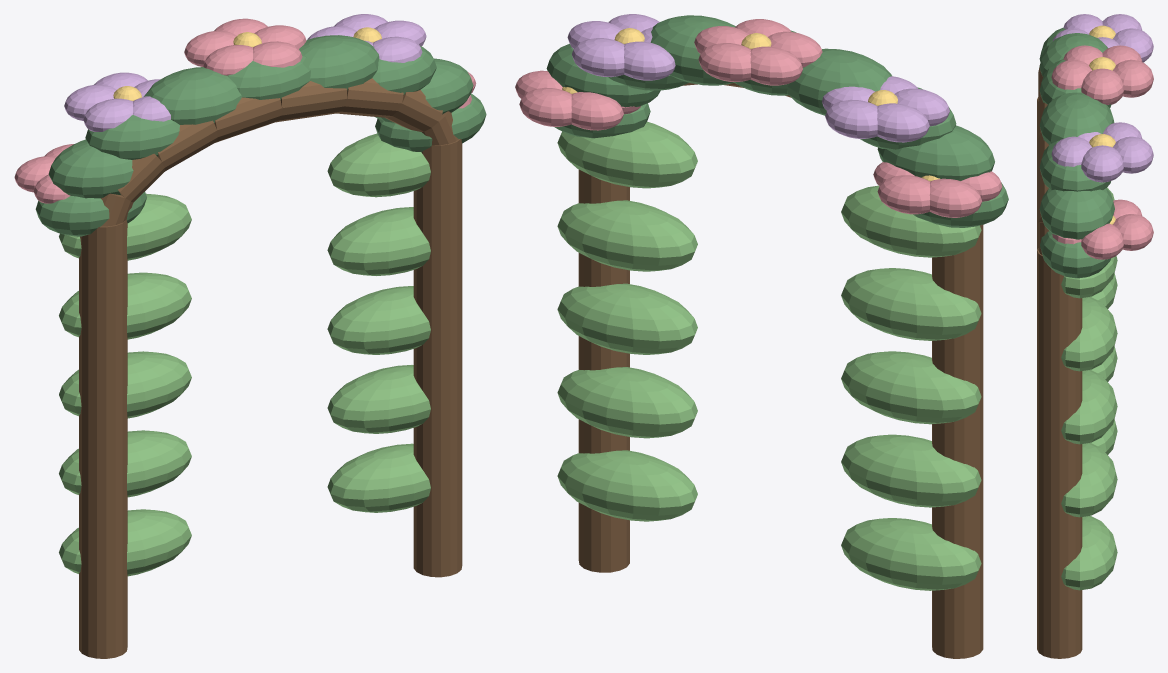
The model's file is FlowerArch.fbx.
The picture shows the model from 3 angles, left to right: view 1: azimuth 30°, elevation 25°; view 2: azimuth 150°, elevation 25°; view 3: azimuth 270°, elevation 25°; orthographic projection. The views are drawn at different scales.
Parts seen in each view (by area): view 1: Vine pillar, Vine pillar.001, Climbing leaf.007, Climbing leaf.008, Climbing leaf.005, Climbing leaf.006, Climbing leaf.009, Climbing leaf.003, Climbing leaf.002, Climbing leaf.001, Climbing leaf, Arch leaf.003 (+27 smaller); view 2: Vine pillar, Vine pillar.001, Climbing leaf.005, Climbing leaf.007, Climbing leaf.008, Climbing leaf.006, Climbing leaf.002, Climbing leaf, Climbing leaf.003, Climbing leaf.001, Climbing leaf.009, Climbing leaf.004 (+24 smaller); view 3: Vine pillar.001, Arch leaf.007, Arch leaf.005, Climbing leaf.008, Climbing leaf.005, Climbing leaf.006, Climbing leaf.007, Arch leaf.008, Arch leaf.006, Petal.015, Petal.010, Petal.020 (+24 smaller).
Part boxes in pixels (x1,y1,x2,y2): Vine pillar: (79, 220, 127, 658); Vine pillar.001: (413, 139, 462, 577); Climbing leaf.007: (327, 286, 430, 354); Climbing leaf.008: (327, 207, 430, 275); Climbing leaf.005: (327, 443, 430, 512); Climbing leaf.006: (327, 365, 430, 433); Climbing leaf.009: (327, 133, 430, 197); Climbing leaf.003: (59, 272, 191, 339); Climbing leaf.002: (59, 351, 191, 418); Climbing leaf.001: (59, 430, 191, 497); Climbing leaf: (59, 509, 191, 576); Arch leaf.003: (143, 67, 241, 124); Vine pillar: (932, 225, 983, 658); Vine pillar.001: (578, 169, 629, 572); Climbing leaf.005: (557, 450, 697, 521); Climbing leaf.007: (557, 283, 697, 354); Climbing leaf.008: (557, 200, 697, 271); Climbing leaf.006: (557, 367, 697, 438); Climbing leaf.002: (841, 351, 981, 424); Climbing leaf: (841, 518, 981, 590); Climbing leaf.003: (841, 268, 981, 340); Climbing leaf.001: (841, 434, 981, 507); Climbing leaf.009: (557, 121, 697, 188); Climbing leaf.004: (841, 185, 981, 257); Vine pillar.001: (1037, 248, 1082, 658); Arch leaf.007: (1039, 188, 1114, 239); Arch leaf.005: (1039, 92, 1114, 144); Climbing leaf.008: (1061, 297, 1117, 371); Climbing leaf.005: (1061, 516, 1117, 590); Climbing leaf.006: (1061, 443, 1117, 517); Climbing leaf.007: (1061, 370, 1117, 444); Arch leaf.008: (1040, 231, 1110, 278); Arch leaf.006: (1039, 140, 1110, 191); Petal.015: (1081, 145, 1123, 182); Petal.010: (1081, 68, 1123, 104); Petal.020: (1081, 223, 1123, 259).
Bounding box in the file's own units: 190 × 226 × 46.41.
